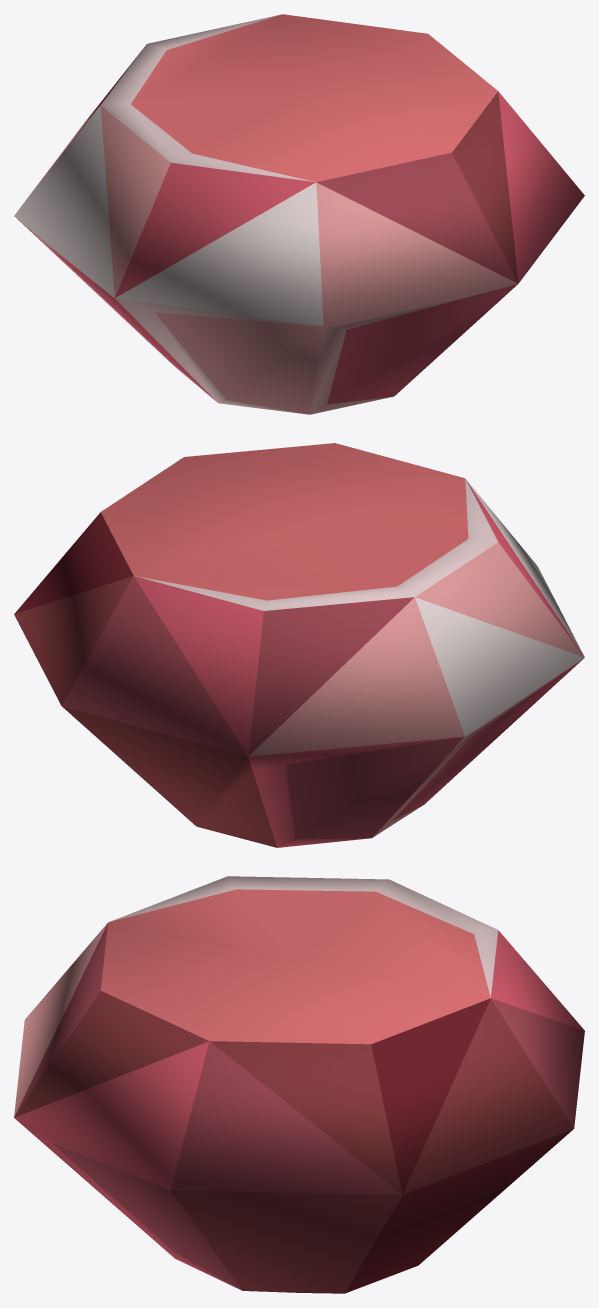
The model's file is PenglantianCrystalRed.glb.
The picture shows the model from 3 angles, top to bottom: view 1: azimuth 30°, elevation 25°; view 2: azimuth 150°, elevation 25°; view 3: azimuth 270°, elevation 25°; orthographic projection. The views are drawn at different scales.
Visible parts, largest first — view 1: PenglantianCrystalRed; view 2: PenglantianCrystalRed; view 3: PenglantianCrystalRed.
Part boxes in pixels (x1=…): PenglantianCrystalRed: x1=14, y1=14, x2=584, y2=414; PenglantianCrystalRed: x1=14, y1=443, x2=584, y2=847; PenglantianCrystalRed: x1=14, y1=876, x2=584, y2=1293.
Bounding box in the file's own units: 2.45 × 1.57 × 2.45.
